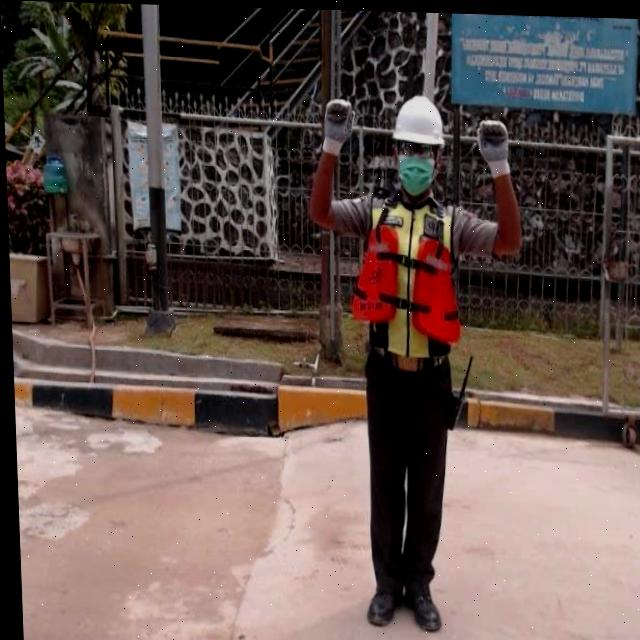Gloves: (319, 96, 356, 154), (476, 116, 511, 175)
Helmet: (389, 90, 446, 144)
Safety-Boot: (401, 578, 438, 629), (361, 583, 400, 624)
Safety-Vest: (346, 189, 461, 355)
